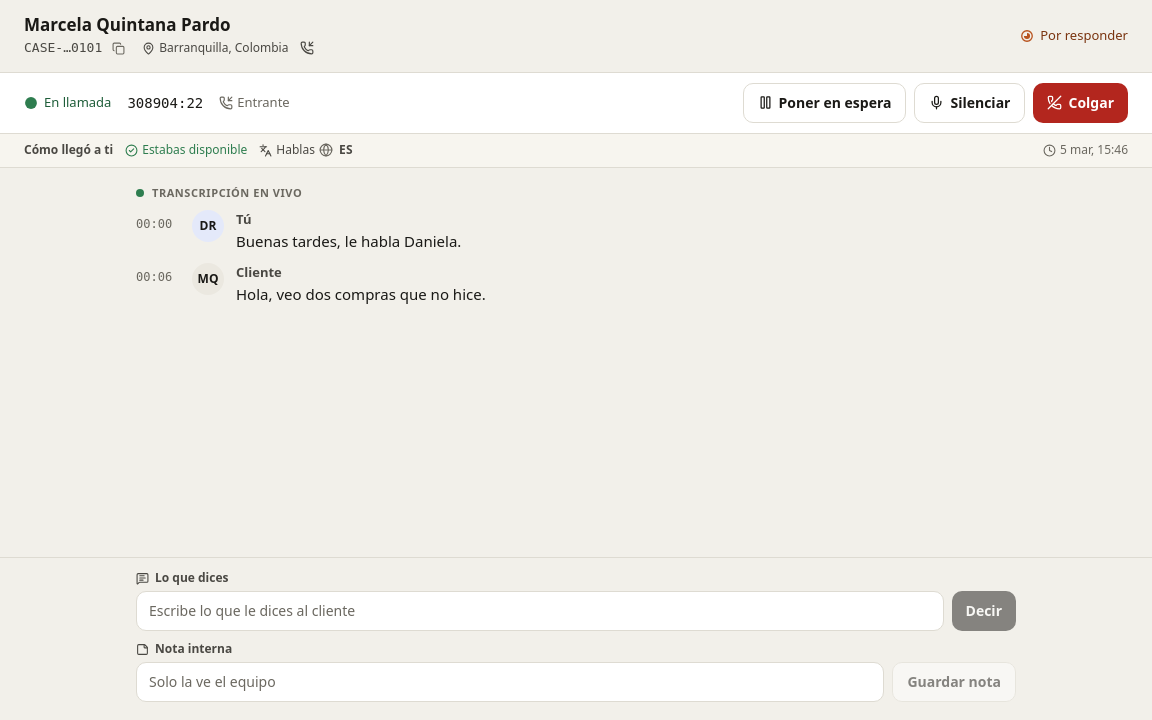
Scenario: ConversationPane · call (slice 12) › holds, mutes and hangs up through the bar
Step 1. Click the button "Silenciar" → (970, 103), box top-left (914, 83), bottom-right (1026, 123)
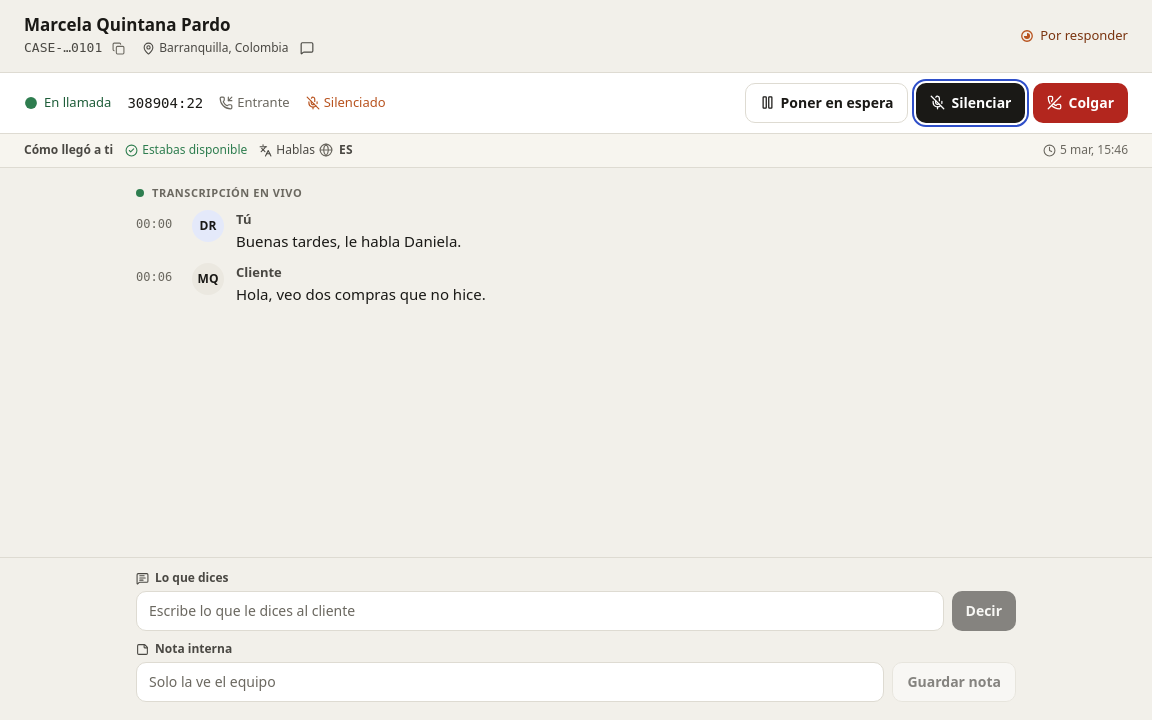
Expected: the element "llamada" shows "Silenciado", top-left (324, 93), bottom-right (386, 111)
Step 2. Click the button "Poner en espera" → (826, 103), box top-left (744, 83), bottom-right (908, 123)
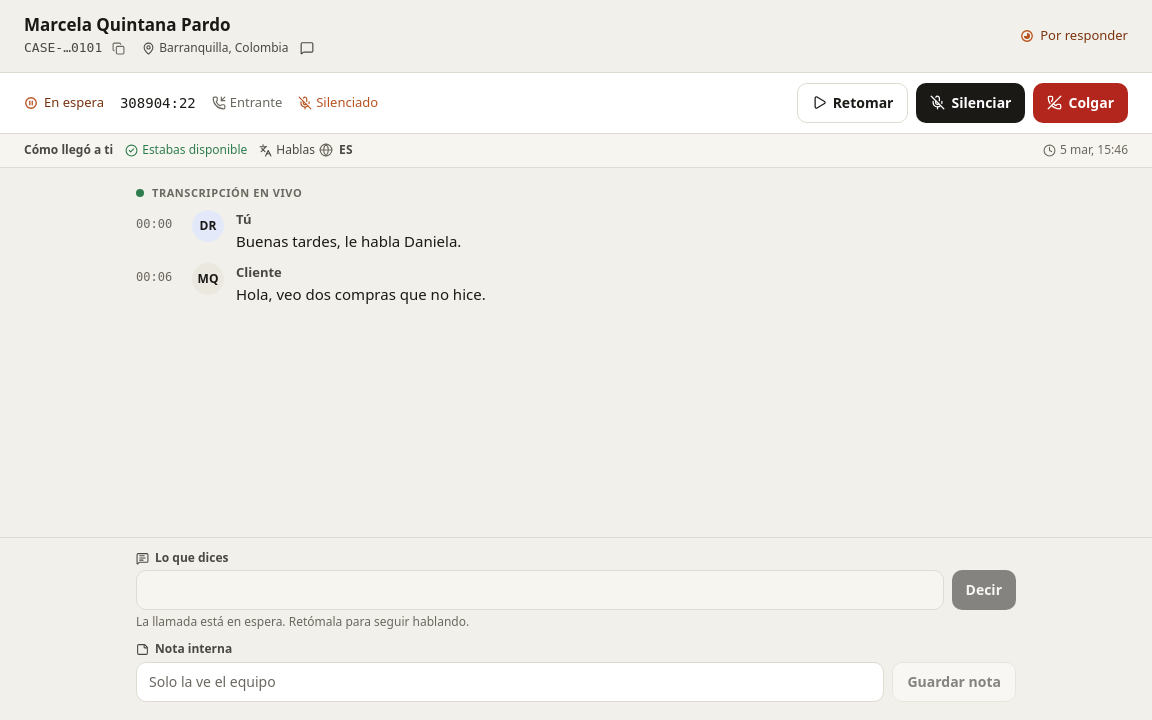
Expected: the element showing "En espera" is shown, top-left (24, 93), bottom-right (104, 112)
Expected: the button "Retomar" is shown, top-left (797, 83), bottom-right (908, 123)
Expected: the text "La llamada está en espera. Retómala para seguir hablando." is shown, top-left (136, 613), bottom-right (469, 630)
Step 3. Click the button "Colgar" → (1081, 103), box top-left (1034, 83), bottom-right (1128, 123)
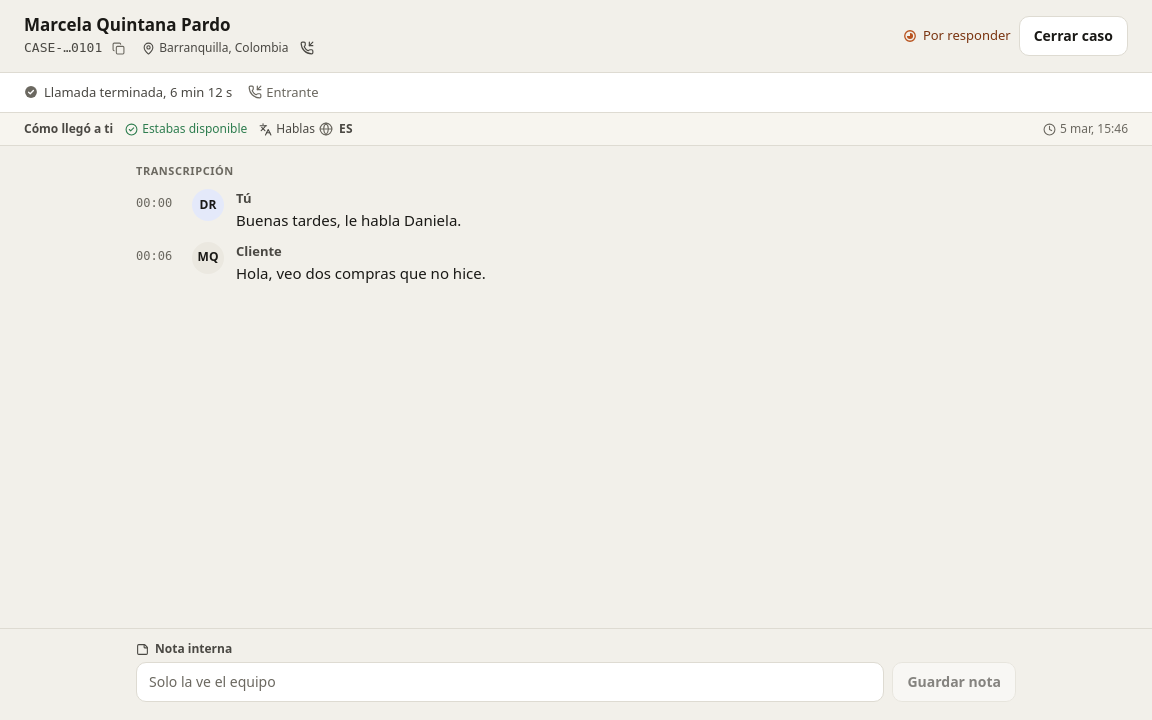
Expected: the element showing "Llamada terminada, 6 min 12 s" is shown, top-left (24, 83), bottom-right (232, 102)
Expected: the button "Retomar" is gone
Expected: the button "Cerrar caso" is shown, top-left (1019, 16), bottom-right (1128, 56)
